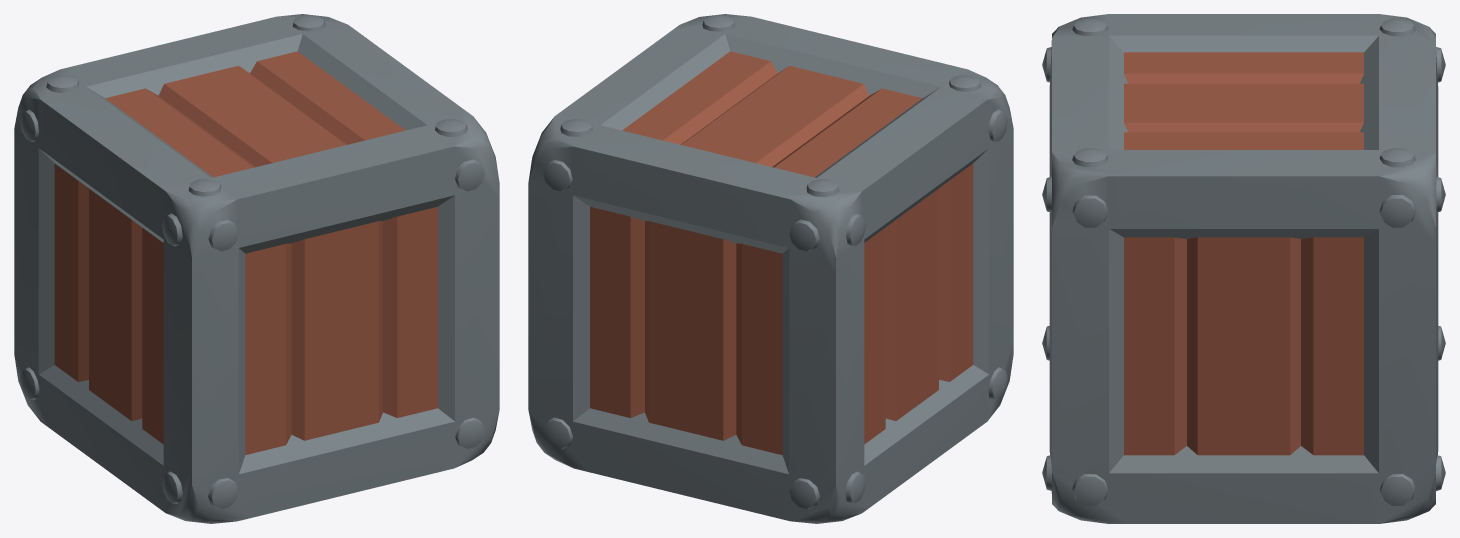
File: crateDark 1.fbx
The picture shows the model from 3 angles, left to right: view 1: azimuth 30°, elevation 25°; view 2: azimuth 150°, elevation 25°; view 3: azimuth 270°, elevation 25°; orthographic projection. The views are drawn at different scales.
Parts seen in each view (by area): view 1: crateDark; view 2: crateDark; view 3: crateDark.
Part boxes in pixels (box(x1,y1,x2,y2)): crateDark: box(14, 14, 499, 523); crateDark: box(528, 14, 1013, 523); crateDark: box(1042, 14, 1445, 523).
Bounding box in the file's own units: 105 × 105 × 105.
